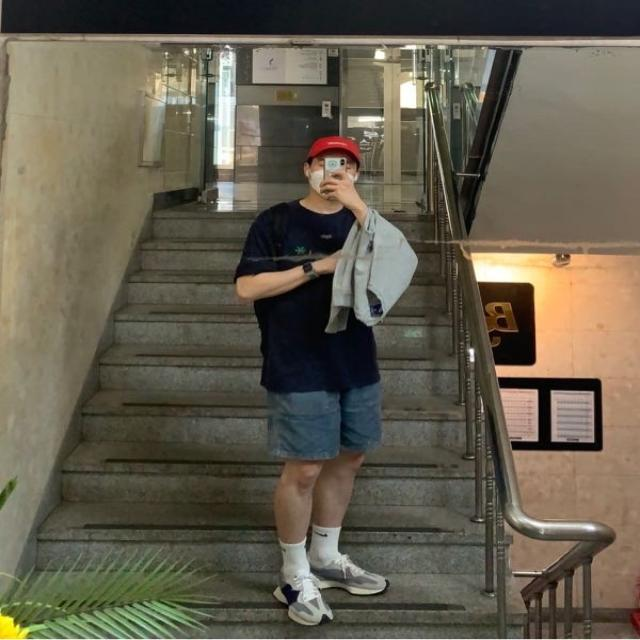shortpants: (268, 378, 383, 460)
shortsleeve: (238, 196, 392, 389)
